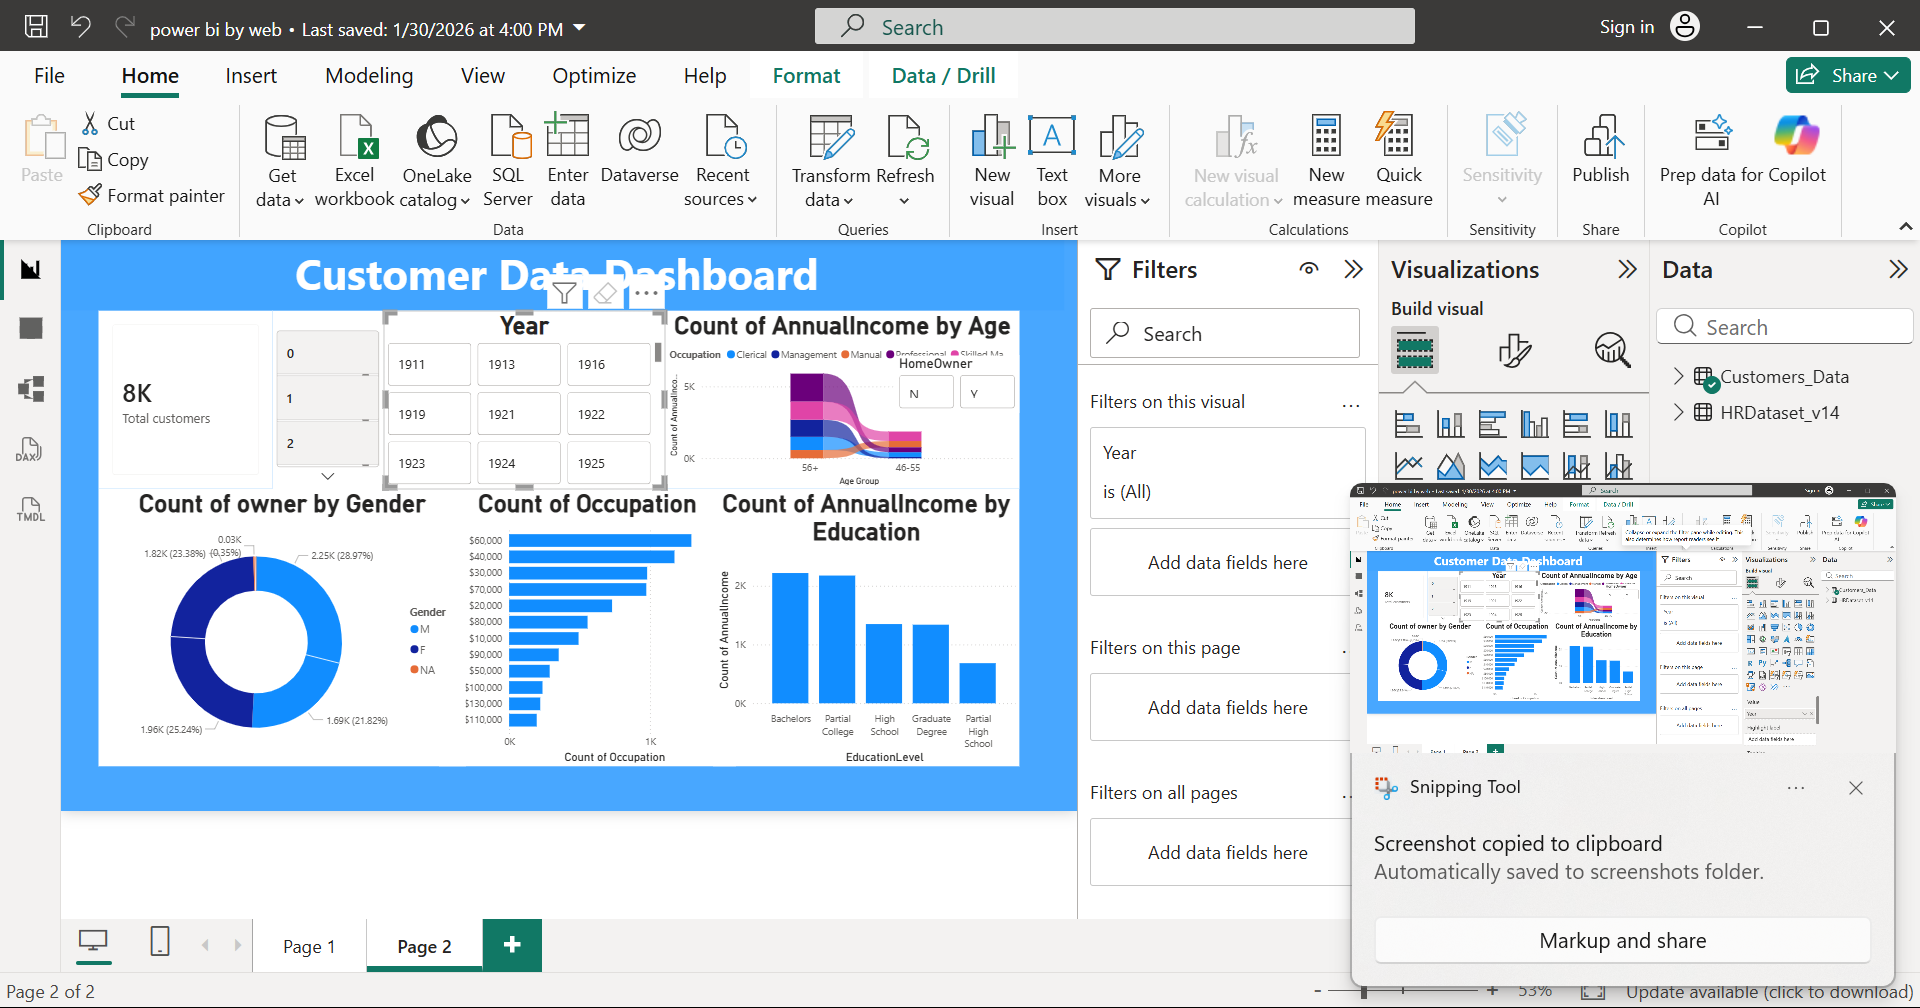

The dashboard page shown, as its layout file describes it:
{"tool":"powerbi","page":{"name":"Page 2","canvas":[1280,720],"ordinal":1},"visuals":[{"type":"barChart","title":"Count of Occupation","fields":{"Category":["Customers_Data.AnnualIncome"],"Y":["CountNonNull(Customers_Data.Occupation)"]},"box":[476.2,313.7,374.2,349.6],"z":0},{"type":"columnChart","title":"Count of AnnualIncome by Education","fields":{"Y":["CountNonNull(Customers_Data.AnnualIncome)"],"Category":["Customers_Data.EducationLevel"]},"box":[822.1,313.7,385.5,349.6],"z":1000},{"type":"ribbonChart","title":"Count of AnnualIncome by Age ","fields":{"Category":["Customers_Data.Age Group"],"Y":["CountNonNull(Customers_Data.AnnualIncome)"],"Series":["Customers_Data.Occupation"]},"box":[761.6,88.8,446,224.9],"z":2000},{"type":"donutChart","title":"Count of owner by Gender","fields":{"Category":["Customers_Data.Gender"],"Y":["CountNonNull(Customers_Data.HomeOwner)"],"Series":["Customers_Data.MaritalStatus"]},"box":[47.2,313.7,463,349.6],"z":3000},{"type":"cardVisual","fields":{"Data":["Customers_Data.Total customers"]},"box":[47.2,88.8,219.2,224.9],"z":4000},{"type":"advancedSlicerVisual","fields":{"Values":["Customers_Data.Year"]},"box":[406.3,88.8,355.3,224.9],"z":5000},{"type":"advancedSlicerVisual","fields":{"Values":["Customers_Data.HomeOwner"]},"box":[1050.7,145.5,156.9,71.8],"z":6000},{"type":"cardVisual","fields":{"Rows":["Customers_Data.TotalChildren"]},"box":[266.5,88.8,139.8,224.9],"z":8000},{"type":"textbox","box":[0,0,1264.3,88.8],"z":8001}]}

Visuals, with their boxes on the page's 1280x720 design canvas (x1, y1, x2, y2). These are canvas units, not pixel positions in the 1920x1008 screenshot, which may show the page scaled, cropped or inside an application window:
"Count of Occupation" barChart: bbox=[476, 314, 850, 663]
"Count of AnnualIncome by Education" columnChart: bbox=[822, 314, 1208, 663]
"Count of AnnualIncome by Age " ribbonChart: bbox=[762, 89, 1208, 314]
"Count of owner by Gender" donutChart: bbox=[47, 314, 510, 663]
cardVisual - Customers_Data.Total customers: bbox=[47, 89, 266, 314]
advancedSlicerVisual - Customers_Data.Year: bbox=[406, 89, 762, 314]
advancedSlicerVisual - Customers_Data.HomeOwner: bbox=[1051, 146, 1208, 217]
cardVisual - Customers_Data.TotalChildren: bbox=[266, 89, 406, 314]
textbox: bbox=[0, 0, 1264, 89]
